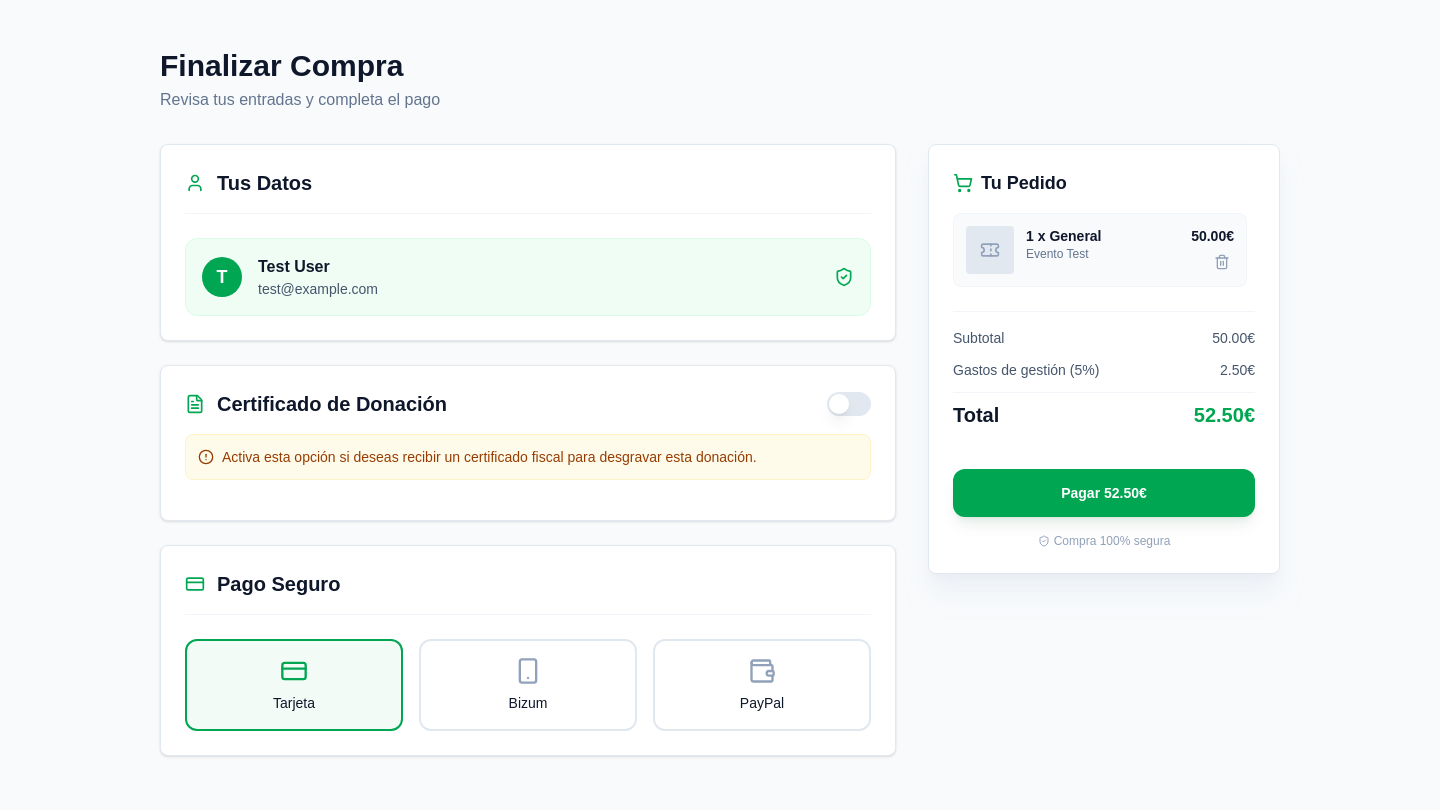
Test: Checkout - Branches Coverage › Estados de carga › debe deshabilitar botón durante la carga
This screenshot has width=1440, height=810.
Click the button "Pagar 52.50€" at (1104, 493), box [953,469,1255,517]
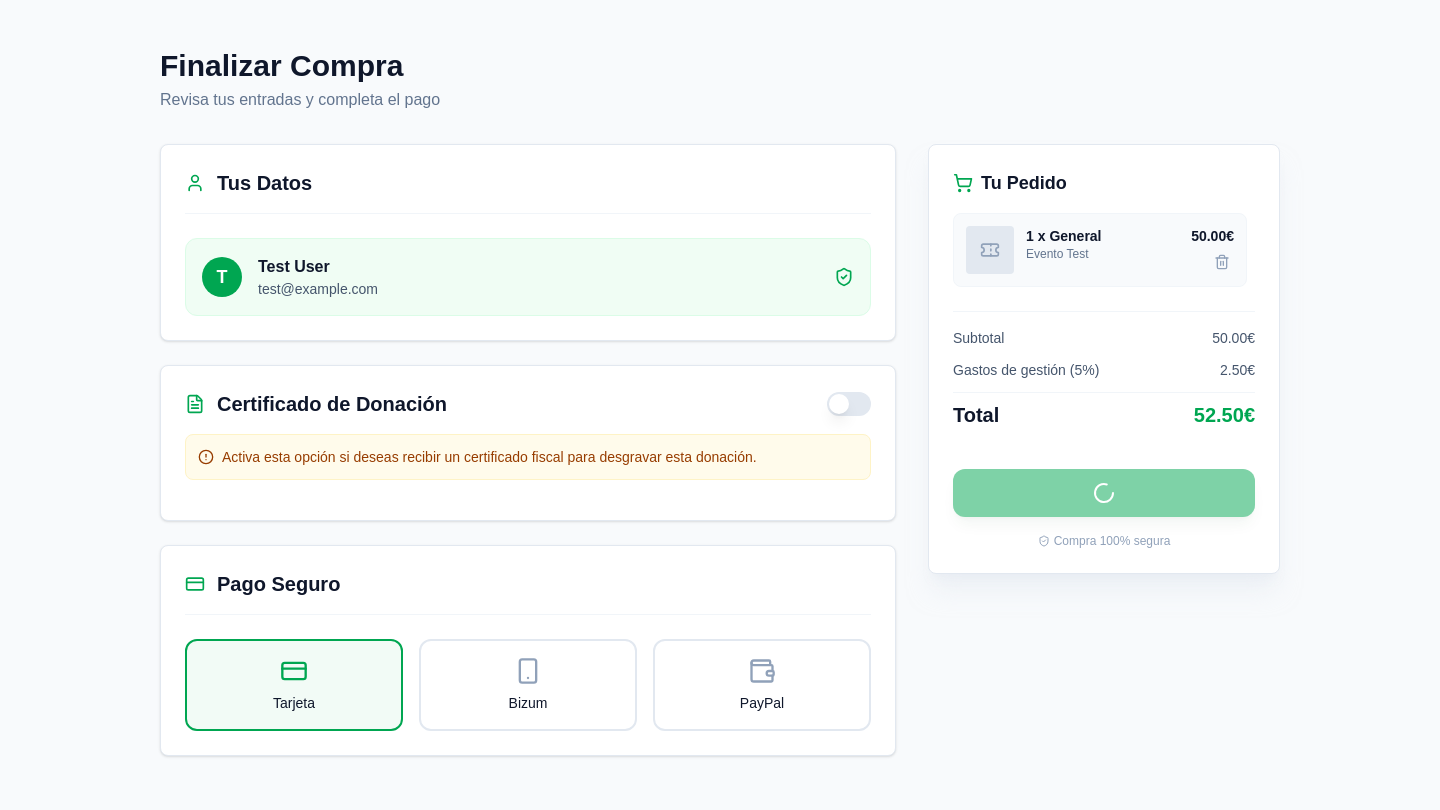
Now the button named "Pagar" is disabled, box [953,469,1255,517]
